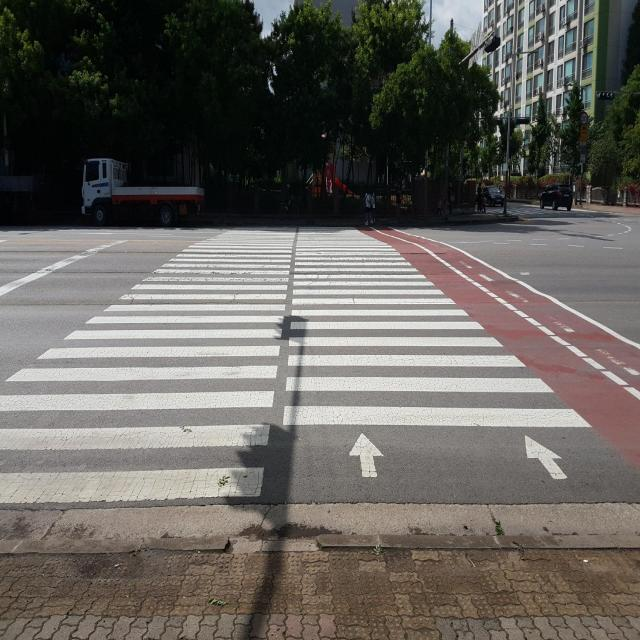횡단보도: (0, 224, 592, 505)
